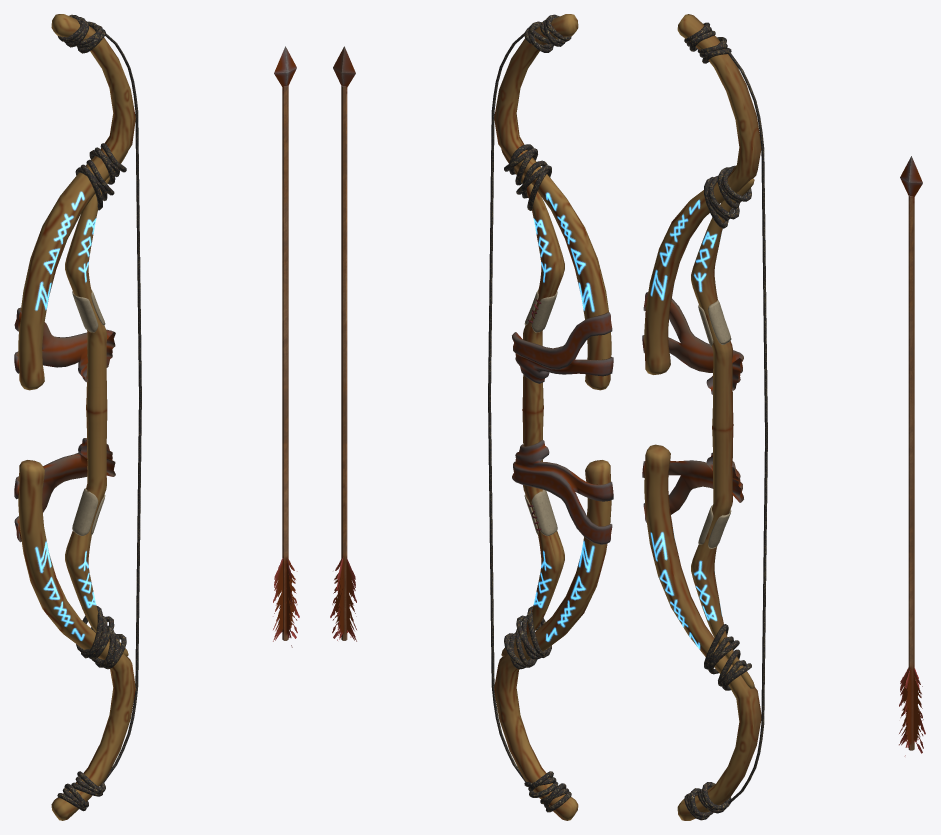
File: bowWood_low.fbx
The picture shows the model from 3 angles, left to right: view 1: azimuth 30°, elevation 25°; view 2: azimuth 150°, elevation 25°; view 3: azimuth 330°, elevation 25°; orthographic projection.
Visible parts, largest first — view 1: Cube_low, arrow_low, Cylinder1_low; view 2: Cube_low, arrow_low, Cylinder1_low; view 3: Cube_low, arrow_low, Cylinder1_low.
Boxes of the visible parts, x1=… form: Cube_low: x1=14, y1=14, x2=135, y2=820; arrow_low: x1=273, y1=46, x2=299, y2=647; Cylinder1_low: x1=103, y1=33, x2=141, y2=782; Cube_low: x1=494, y1=14, x2=613, y2=820; arrow_low: x1=330, y1=46, x2=356, y2=641; Cylinder1_low: x1=488, y1=32, x2=525, y2=781; Cube_low: x1=642, y1=14, x2=761, y2=820; arrow_low: x1=899, y1=156, x2=925, y2=756; Cylinder1_low: x1=728, y1=52, x2=767, y2=803.
Size of the model in its own units: 1.48 by 3.99 by 0.1625.
